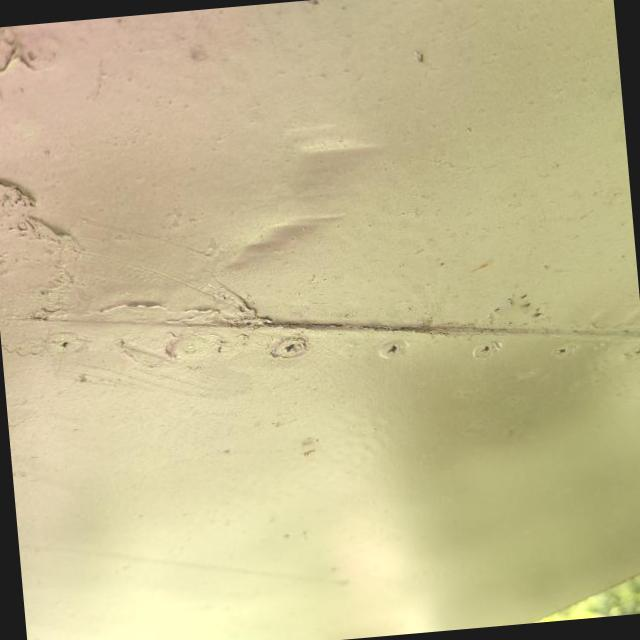dent: (212, 201, 348, 290)
